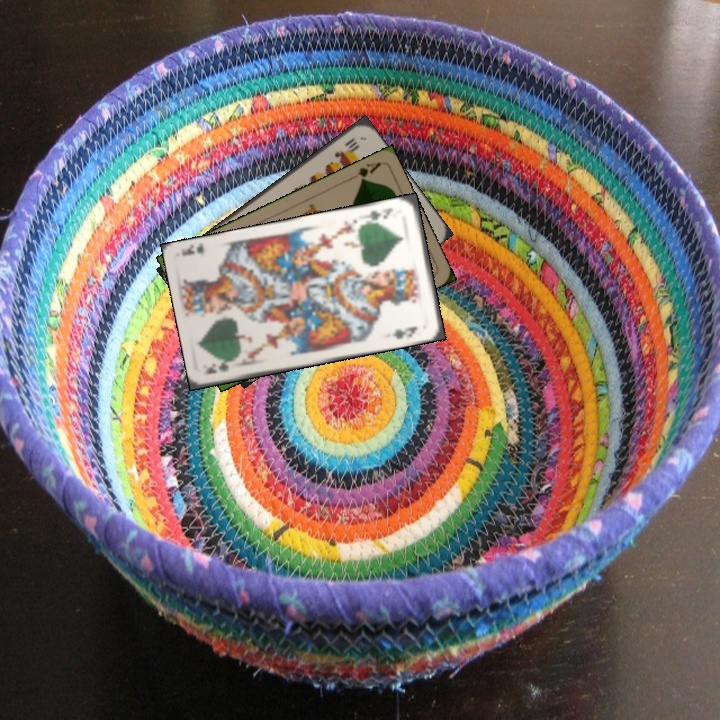E10: (330, 134, 361, 161)
GA: (345, 158, 383, 185)
GK: (202, 356, 239, 377), (362, 204, 395, 226)
